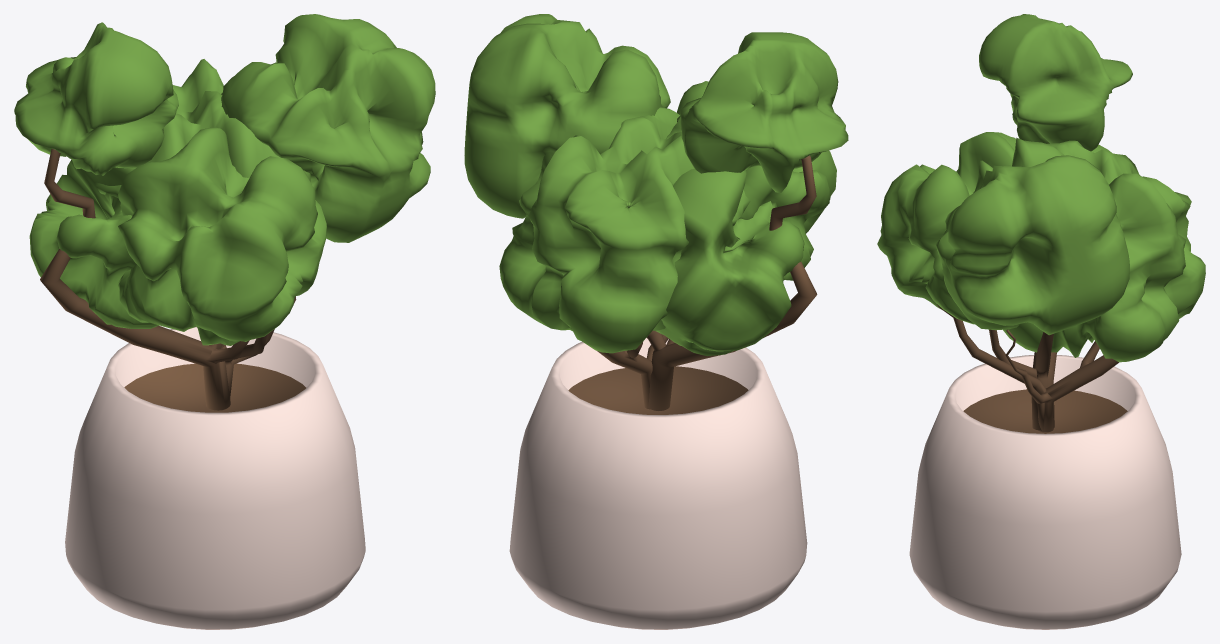
File: plant.glb
3 views of the same model, side by side, from view 1: azimuth 30°, elevation 25°; view 2: azimuth 150°, elevation 25°; view 3: azimuth 270°, elevation 25° (orthographic). The views are drawn at different scales.
Visible parts, largest first — view 1: leaves, pot, branch2, branch1; view 2: leaves, pot, branch2, branch1; view 3: leaves, pot, branch1, branch2.
Boxes of the visible parts, <box> form: leaves: <box>14,14,435,345</box>; pot: <box>65,327,365,629</box>; branch2: <box>40,149,249,410</box>; branch1: <box>222,296,296,398</box>; leaves: <box>464,14,848,356</box>; pot: <box>509,338,807,629</box>; branch2: <box>646,155,817,410</box>; branch1: <box>597,334,668,409</box>; leaves: <box>877,14,1205,362</box>; pot: <box>909,355,1181,629</box>; branch1: <box>937,304,1118,432</box>; branch2: <box>989,329,1056,430</box>.
Bounding box in the file's own units: 3.76 × 5.46 × 3.14.
2 materials, 1 textured.
